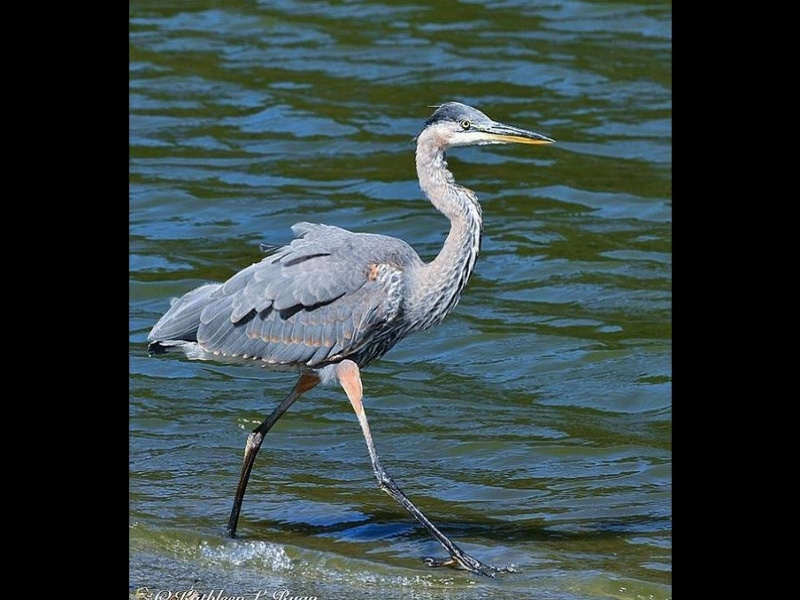heron: (139, 96, 556, 578)
